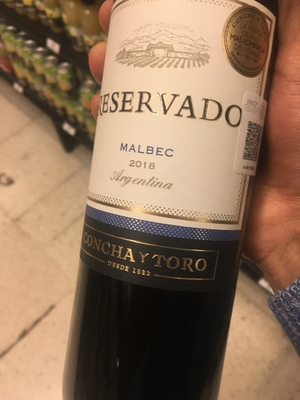reservado malbec: (76, 3, 283, 382)
